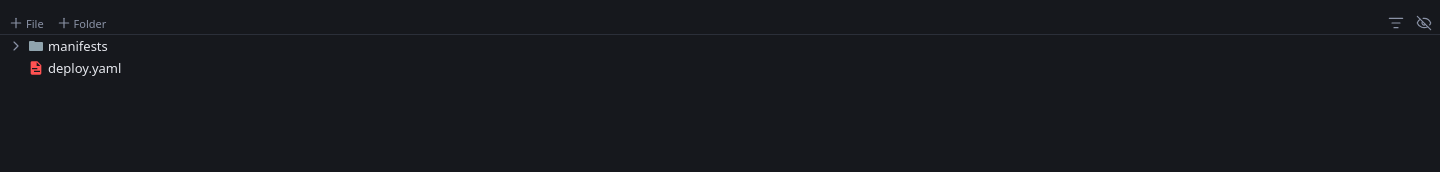
the changed-only mode (#40) › shows deletions, struck through, and only in this mode
Expected: the list item "gone.yaml" is not shown
Click the button named "Changed only" at (1396, 23), box [1384, 12, 1408, 34]
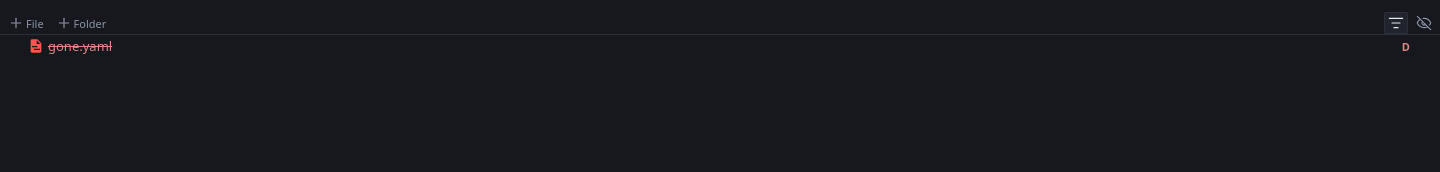
Expected: the list item "gone.yaml D" is shown, [0, 35, 1439, 57]
